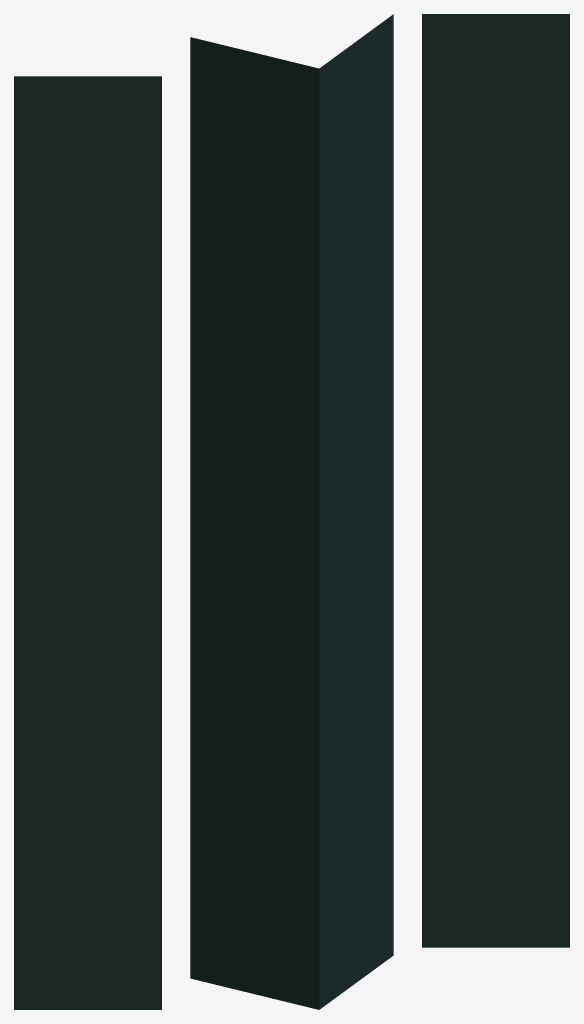
The model's file is fogwallconcave.fbx.
3 views of the same model, side by side, from view 1: azimuth 90°, elevation 25°; view 2: azimuth 150°, elevation 25°; view 3: azimuth 270°, elevation 25° (orthographic).
Parts seen in each view (by area): view 1: foghorizontalnolight; view 2: foghorizontalnolight; view 3: foghorizontalnolight.
Part boxes in pixels (x1=…): foghorizontalnolight: x1=14, y1=76, x2=161, y2=1009; foghorizontalnolight: x1=190, y1=14, x2=393, y2=1009; foghorizontalnolight: x1=422, y1=14, x2=569, y2=947.
Bounding box in the file's own units: 2.87 × 20 × 2.87.
